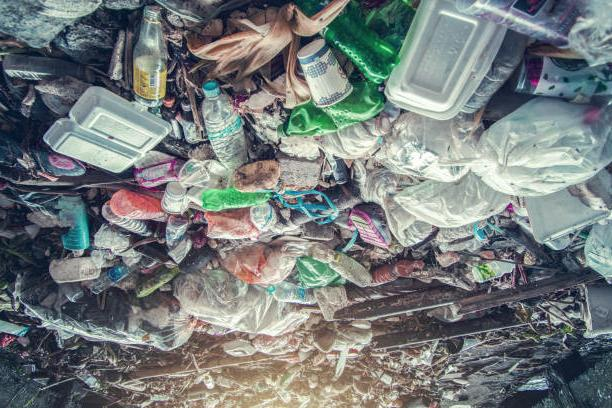Plastic: (264, 85, 380, 138), (195, 77, 249, 178), (133, 0, 168, 109), (103, 187, 172, 226), (191, 186, 276, 216), (54, 189, 90, 258), (96, 204, 156, 245), (314, 248, 371, 288), (88, 261, 130, 299), (264, 279, 315, 310), (363, 257, 424, 281)
Trash: (472, 92, 610, 192), (293, 0, 400, 91), (178, 264, 303, 335), (391, 171, 519, 227), (378, 115, 479, 179)
